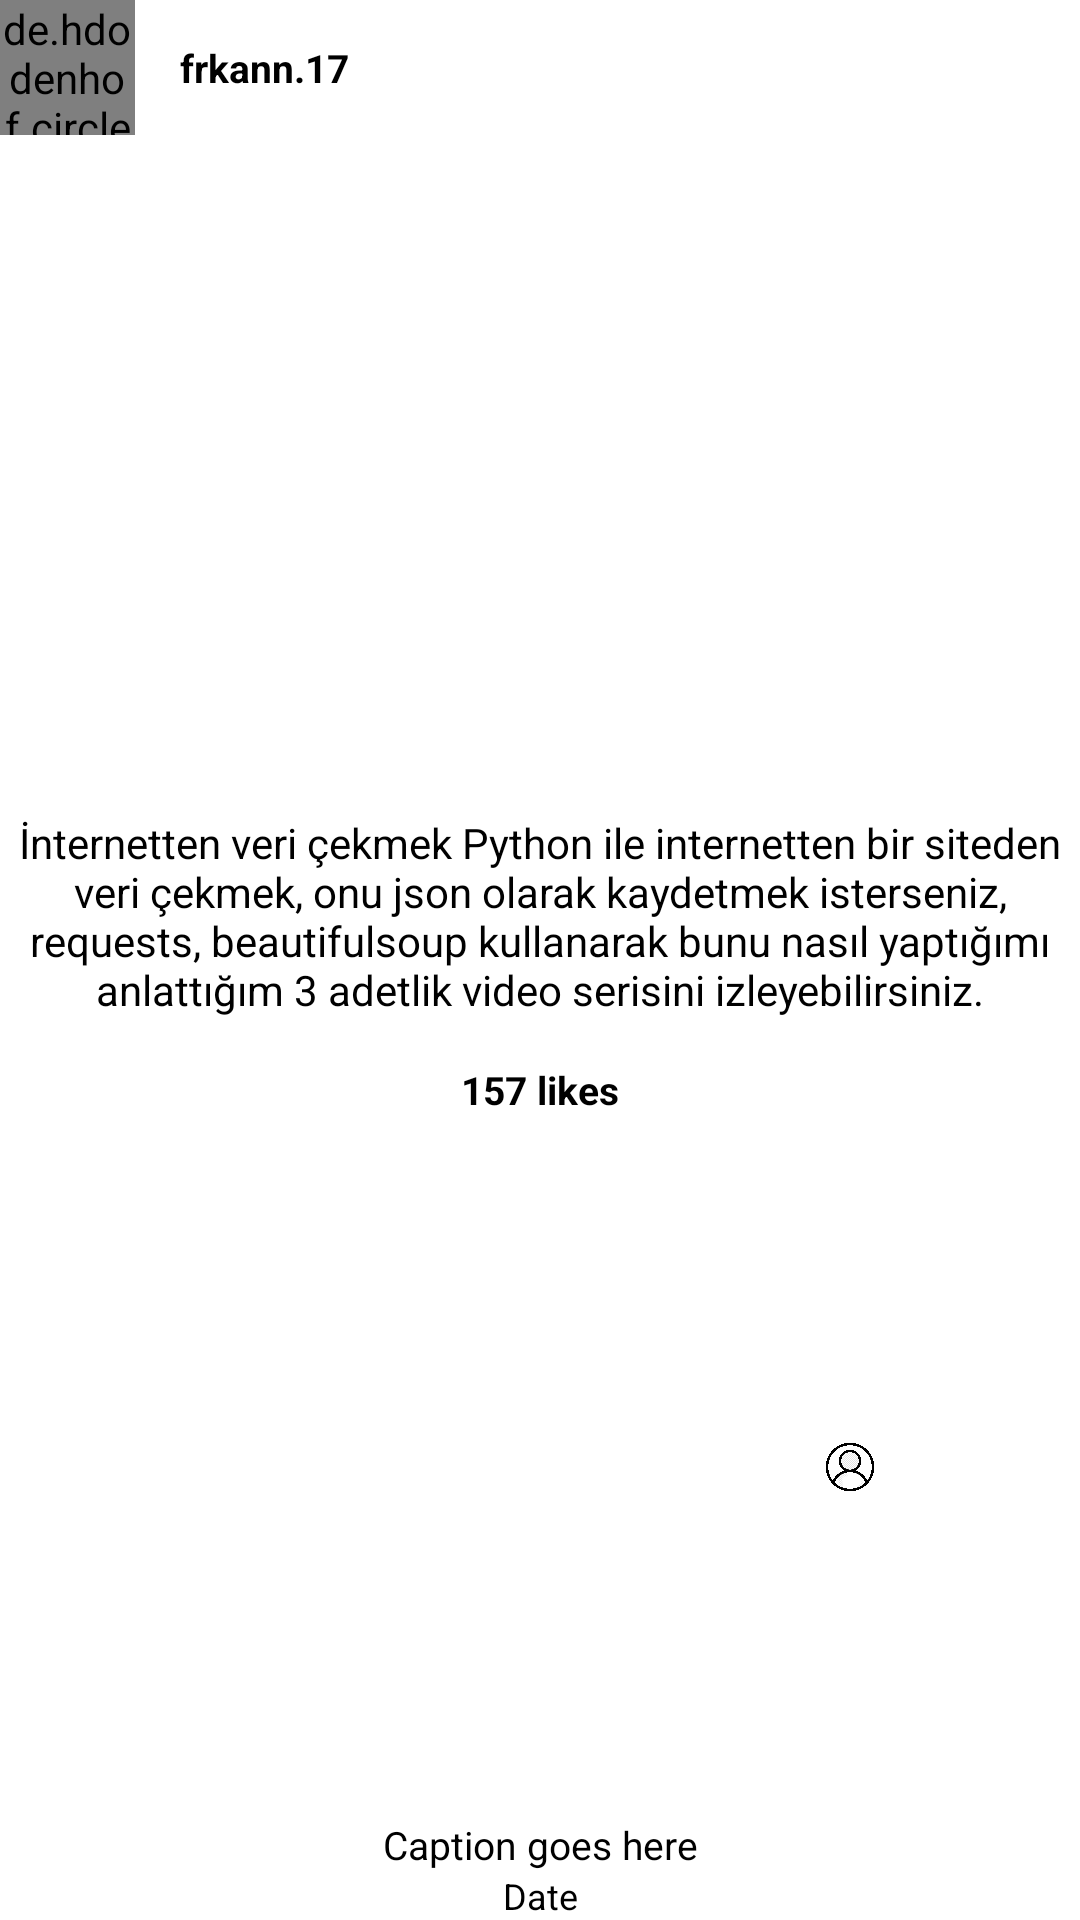

Named icons in this screenshot (1080x1920) and their centers, [x,y]:
profile: [850,1467]
